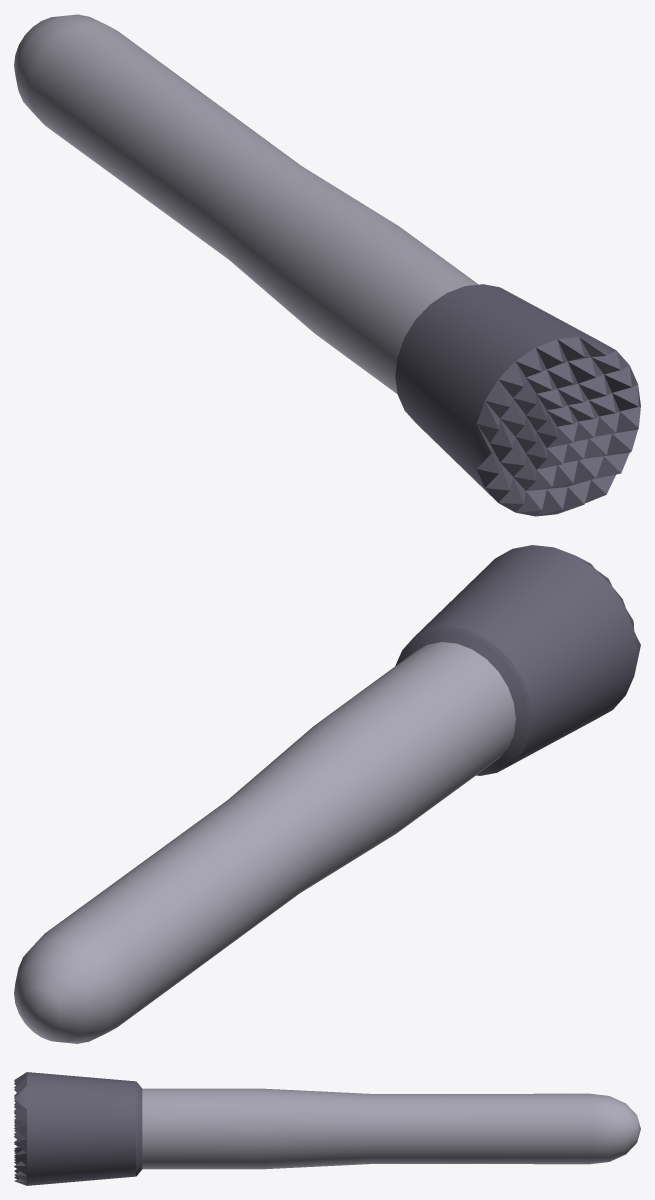
File: muddler_M.fbx
The picture shows the model from 3 angles, top to bottom: view 1: azimuth 30°, elevation 25°; view 2: azimuth 150°, elevation 25°; view 3: azimuth 270°, elevation 25°; orthographic projection. The views are drawn at different scales.
Visible parts, largest first — view 1: muddler; view 2: muddler; view 3: muddler.
Boxes of the visible parts, x1,y1,x2,y2 form: muddler: [14, 14, 640, 516]; muddler: [14, 545, 640, 1043]; muddler: [14, 1072, 640, 1185].
Bounding box in the file's own units: 31.19 × 31.19 × 171.
1 material, 1 textured.
